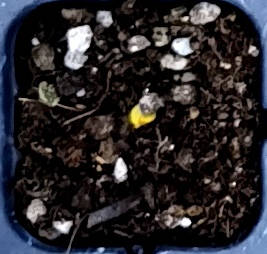pepper seed: (50, 36, 207, 166)
